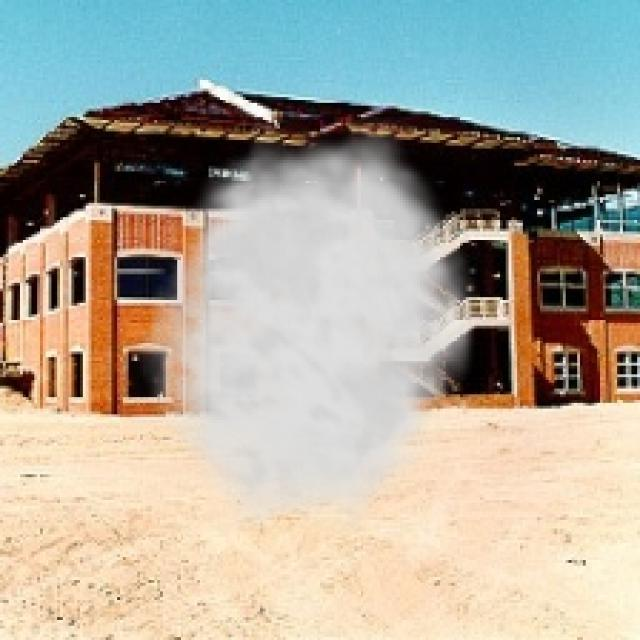Smoke: (131, 117, 486, 534)
